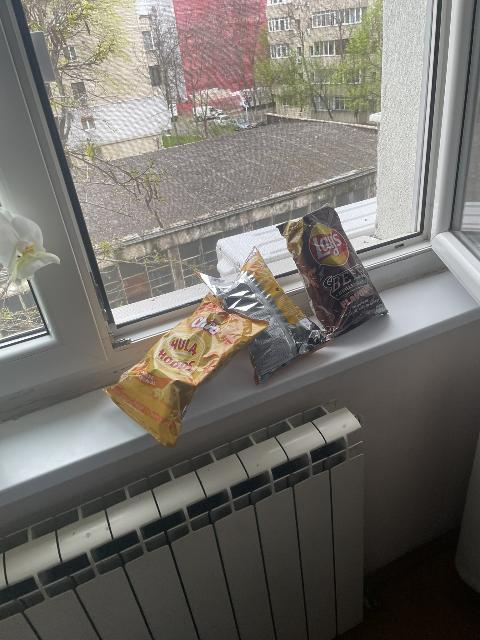Chio Cascaval 125g: (207, 247, 326, 383)
Chio Hula Hoops Cheese 70g: (103, 288, 270, 439)
Lays Beef Grilled Ribs 125g: (280, 205, 387, 337)
